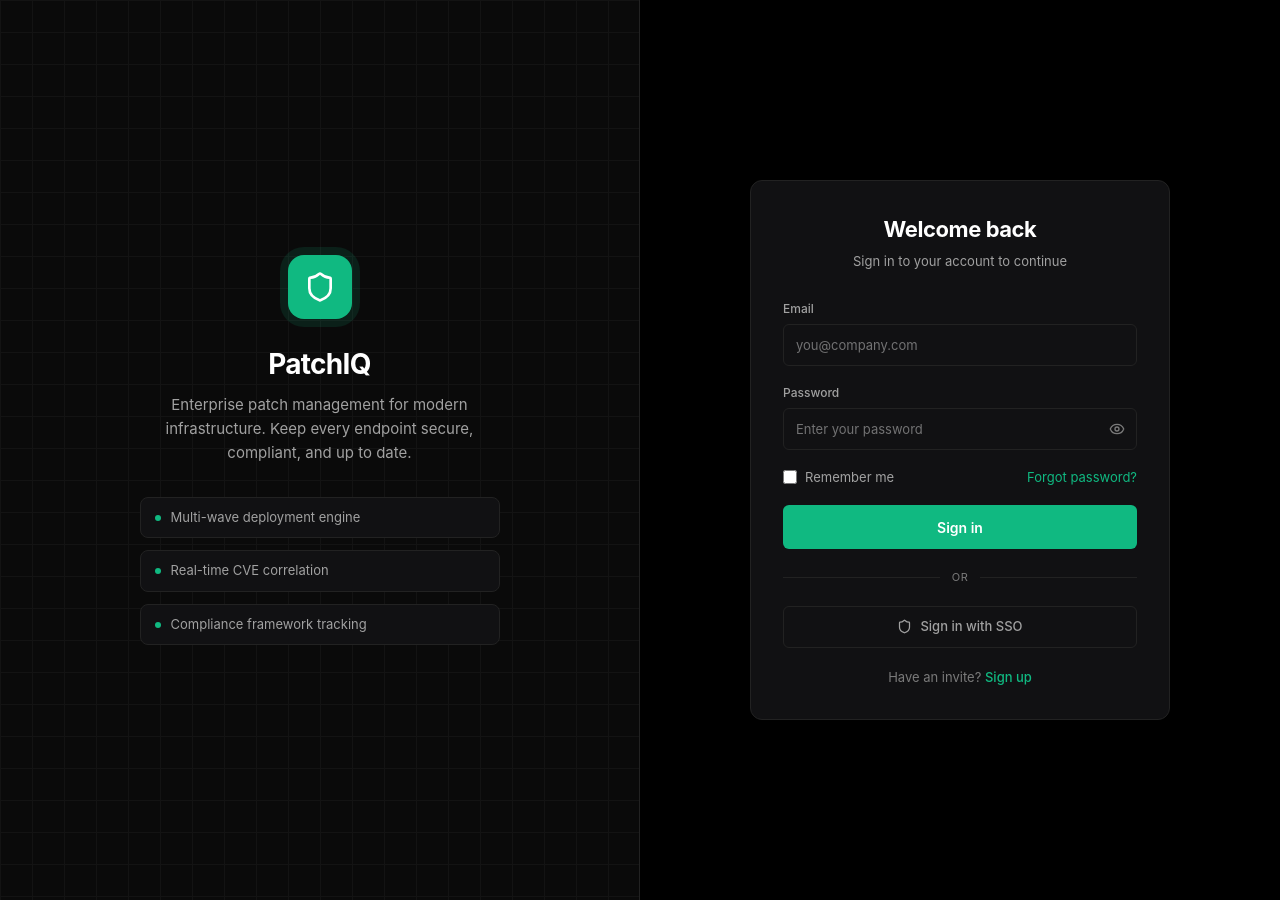
LoginPage › shows validation error for invalid email format
The image size is (1280, 900).
Type "not-an-email" into the field labelled "Email" at (960, 344), box [783,324,1137,366]
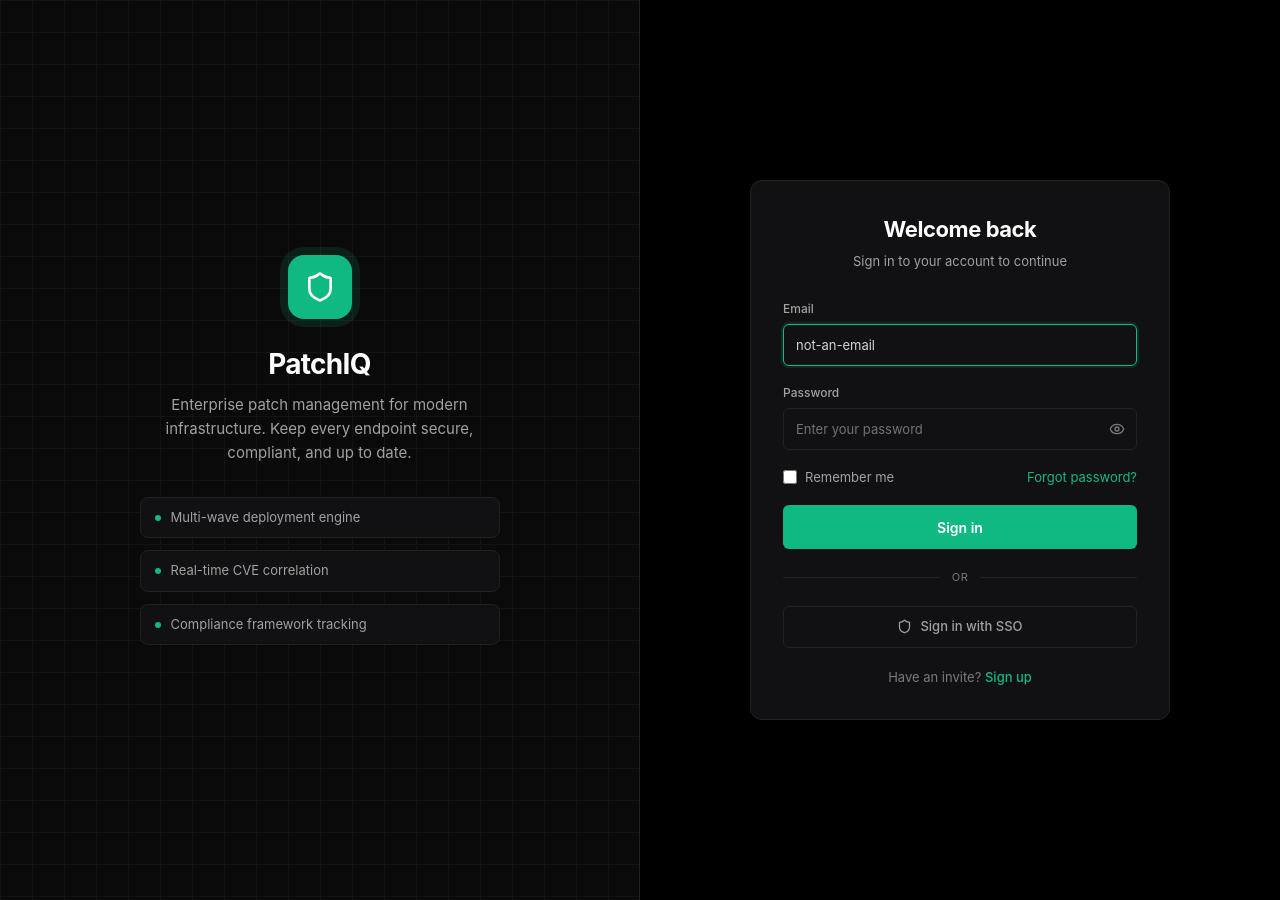
Type "somepassword" into the password field labelled "Password" at (960, 428), box [783,408,1137,450]
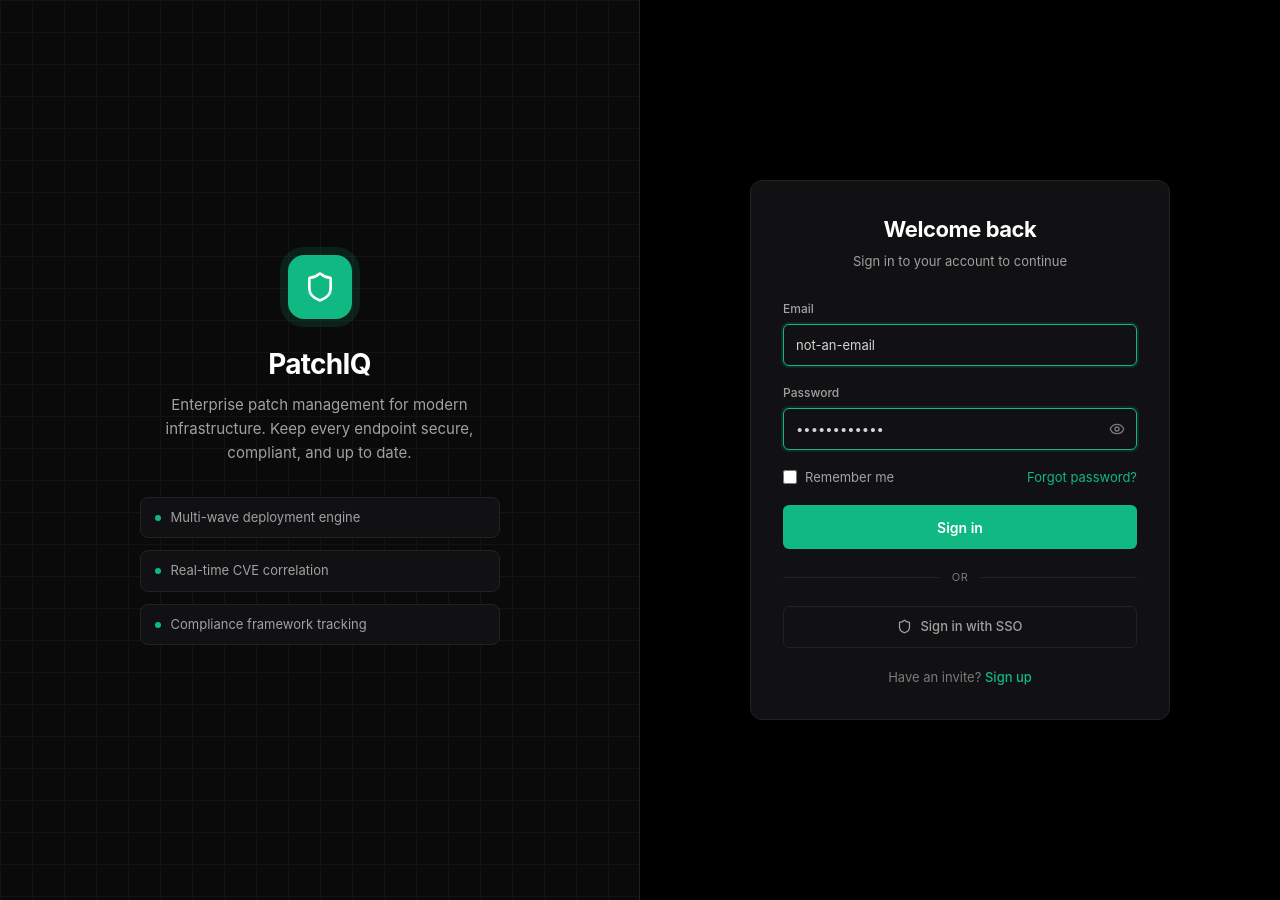
Click the button "Sign in" at (960, 527), box [783,505,1137,549]
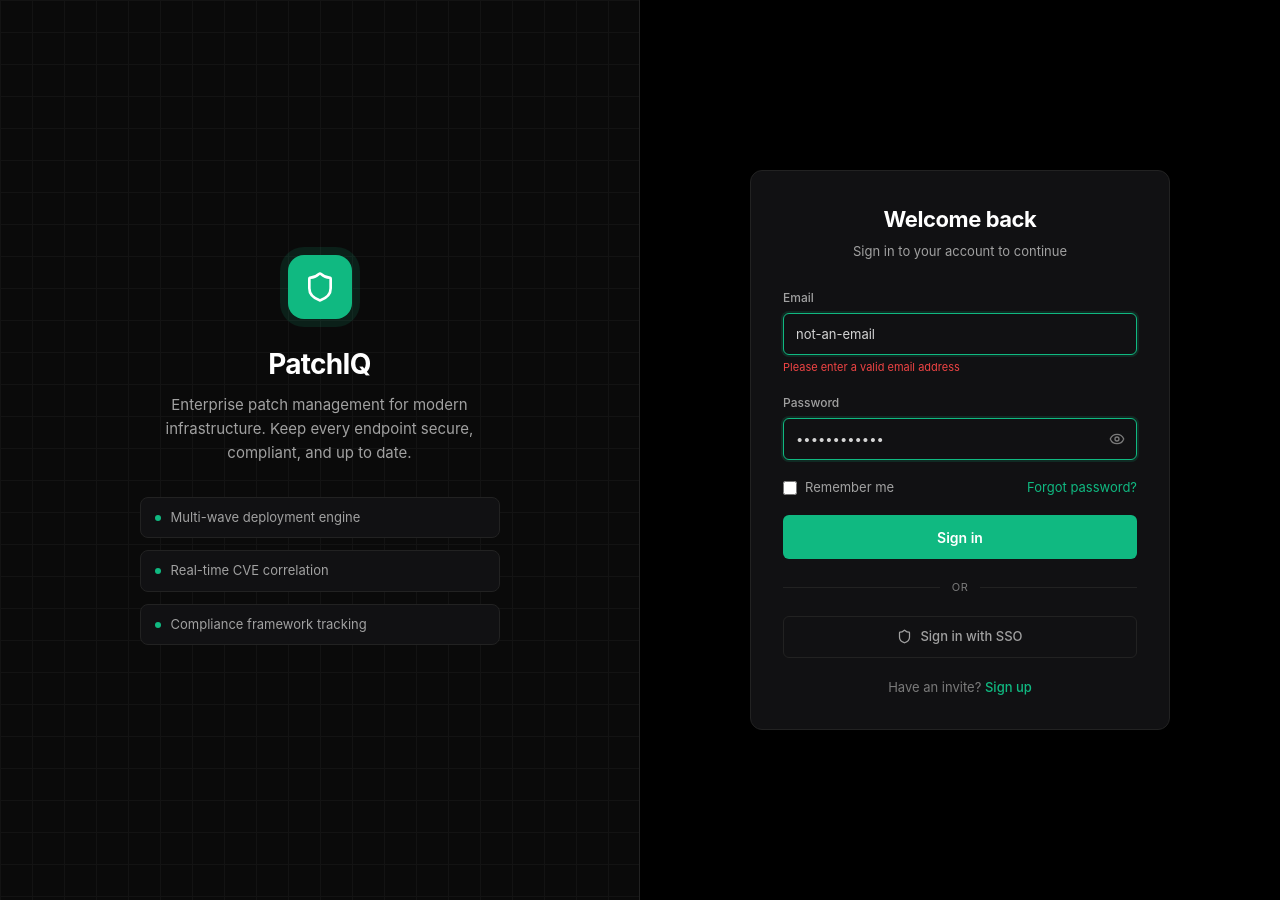
Check: the text "Please enter a valid email address" is shown, box [783,360,960,374]
